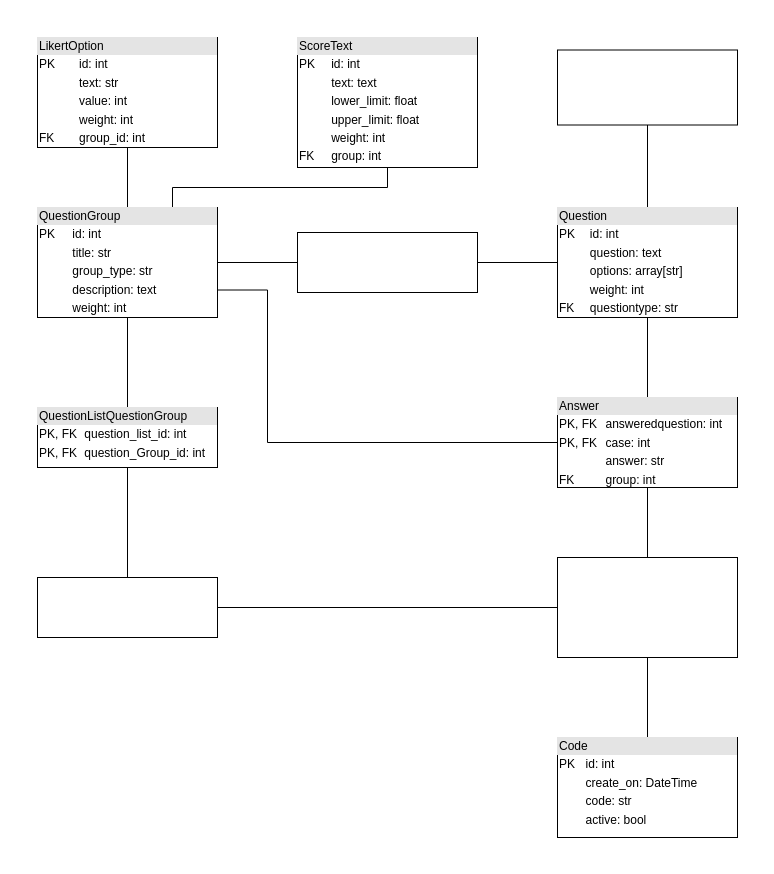
This 774x874 diagram has some shape labels left out. The shapes that lost their labels are listed below. From the top down, each one's centre as x and y in pixels, then its label:
[647,87]: QuestionType PK name: str function: str form: str
[387,262]: QuestionGroupQuestion PK, FK question_group_id: int PK, FK question_id: int
[127,607]: QuestionList PK id: int name: str
[647,607]: Case PK id: int start: DateTime FK code_used: int FK list_selected: int
